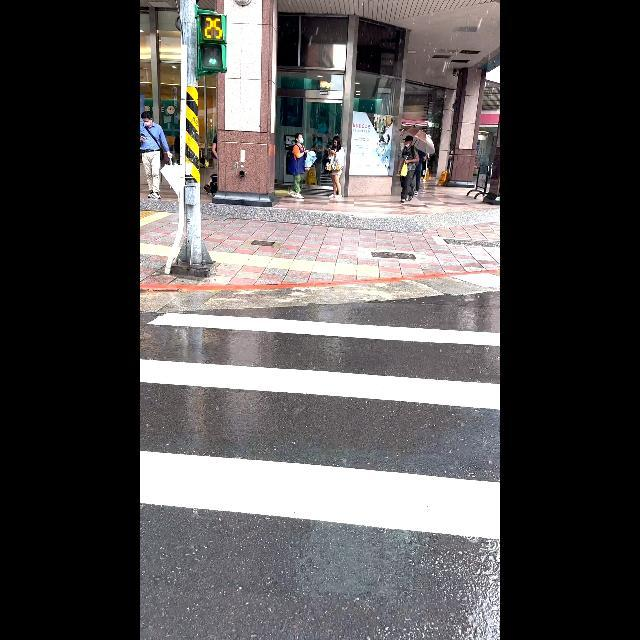sidewalk: (140, 310, 500, 547)
